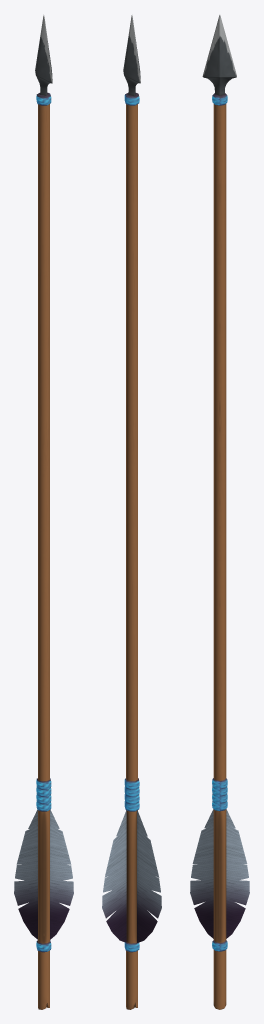
The model's file is arrow.fbx.
3 views of the same model, side by side, from view 1: azimuth 30°, elevation 25°; view 2: azimuth 210°, elevation 25°; view 3: azimuth 270°, elevation 25° (orthographic).
Visible parts, largest first — view 1: arrow_shaft, arrow_feathers, arrow_head; view 2: arrow_shaft, arrow_feathers, arrow_head; view 3: arrow_shaft, arrow_feathers, arrow_head.
Boxes of the visible parts, x1=… form: arrow_shaft: x1=36, y1=92, x2=51, y2=1009; arrow_feathers: x1=14, y1=809, x2=73, y2=939; arrow_head: x1=35, y1=14, x2=52, y2=95; arrow_shaft: x1=124, y1=92, x2=139, y2=1009; arrow_feathers: x1=102, y1=810, x2=161, y2=942; arrow_head: x1=123, y1=14, x2=140, y2=95; arrow_shaft: x1=212, y1=93, x2=227, y2=1009; arrow_feathers: x1=190, y1=809, x2=249, y2=938; arrow_head: x1=202, y1=14, x2=236, y2=95.
Size of the model in its own units: 5.8 by 123 by 6.68.
Materials: 3 (3 with a texture image).
